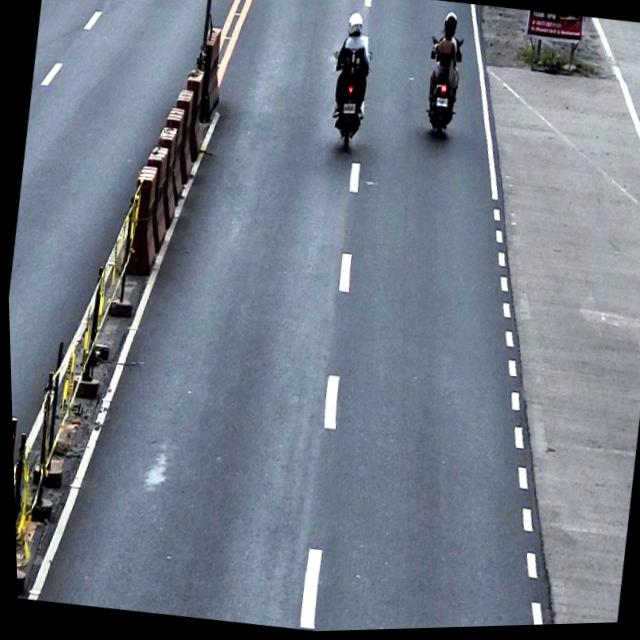License-Plate: (341, 104, 356, 117), (434, 98, 448, 111)
Motorcycle: (319, 48, 377, 161), (418, 35, 468, 141)
